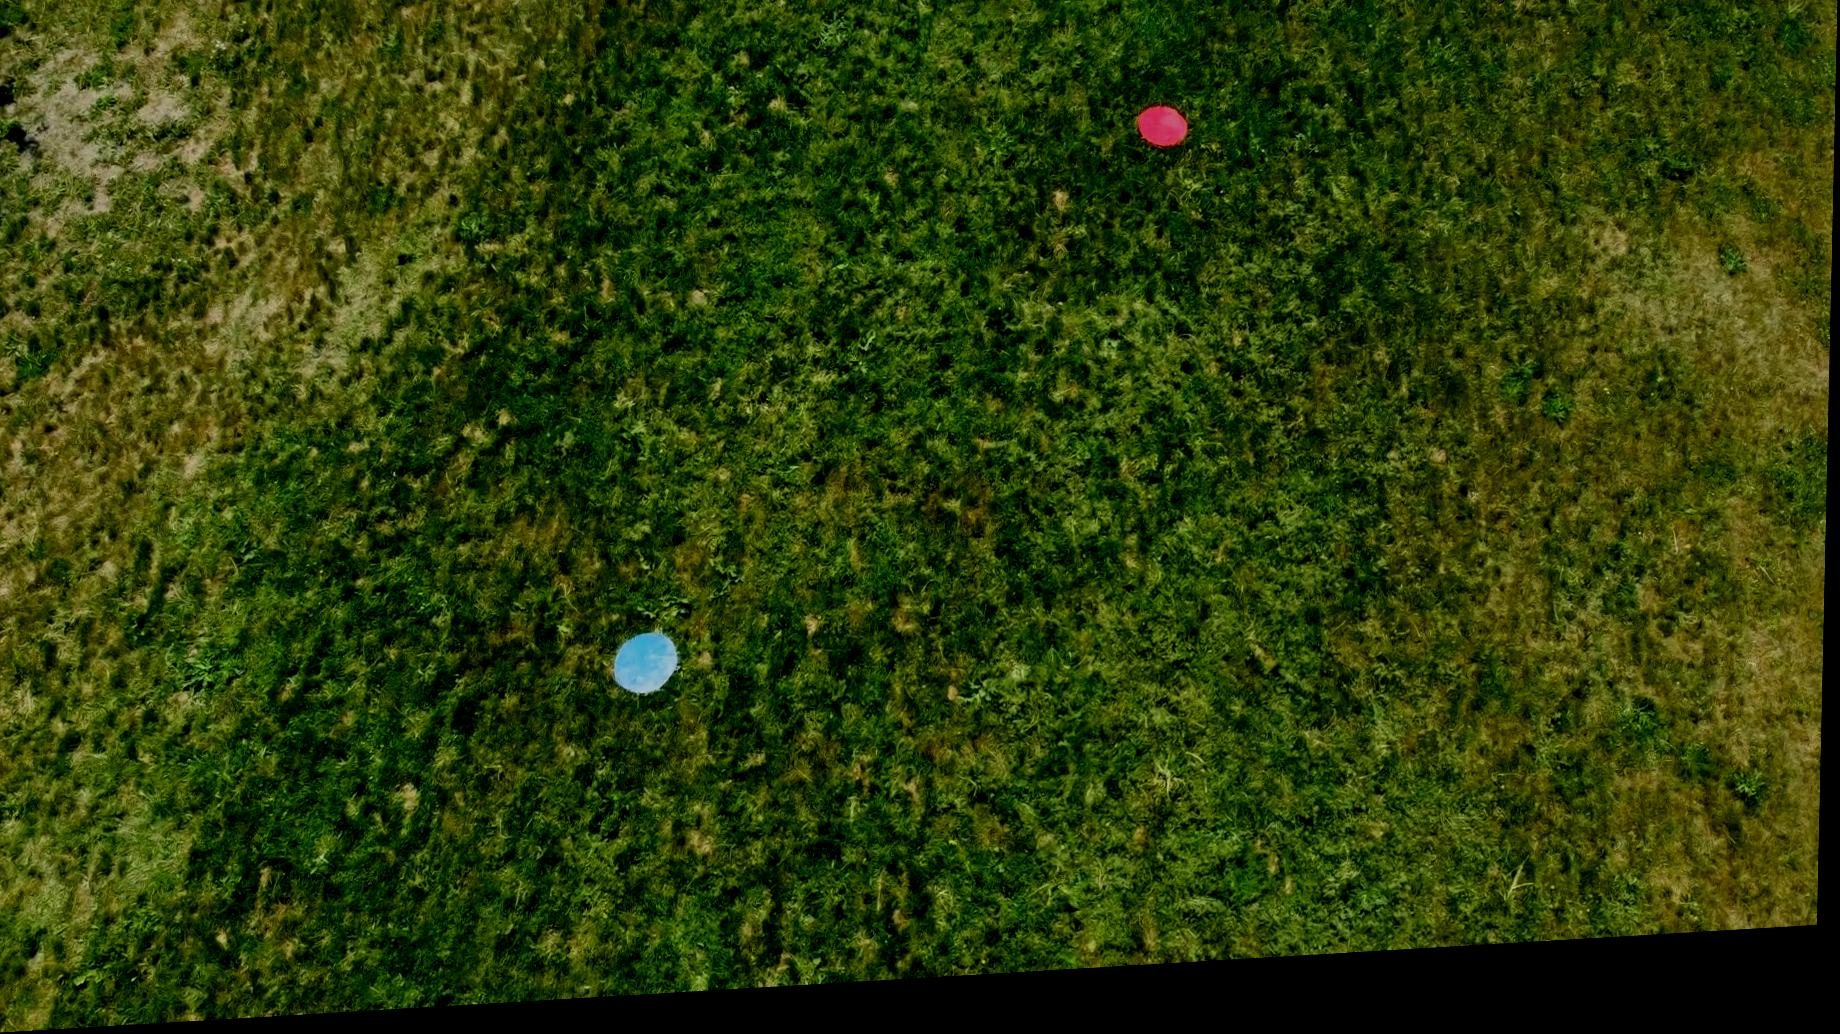Blue: (614, 636, 685, 707)
Red: (1136, 118, 1193, 162)
